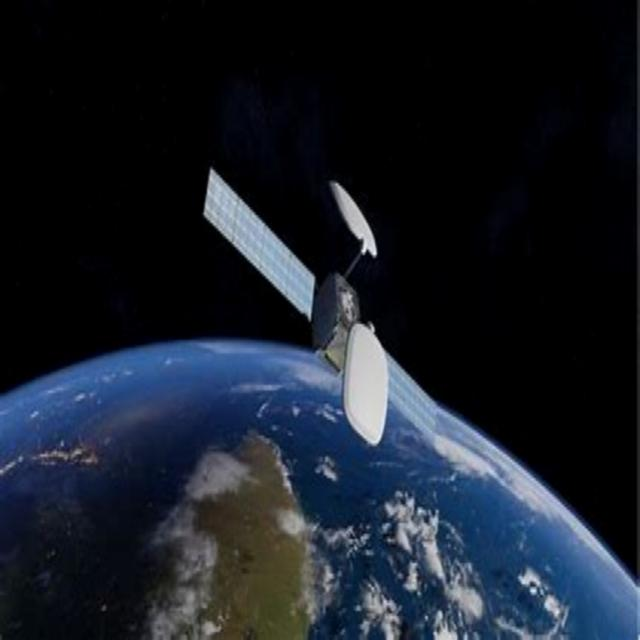satellite: (198, 165, 466, 443)
